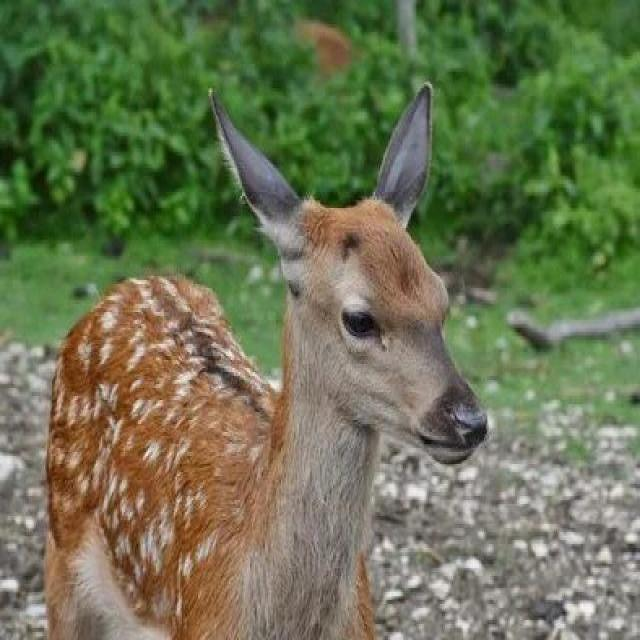deer: (46, 77, 512, 640)
